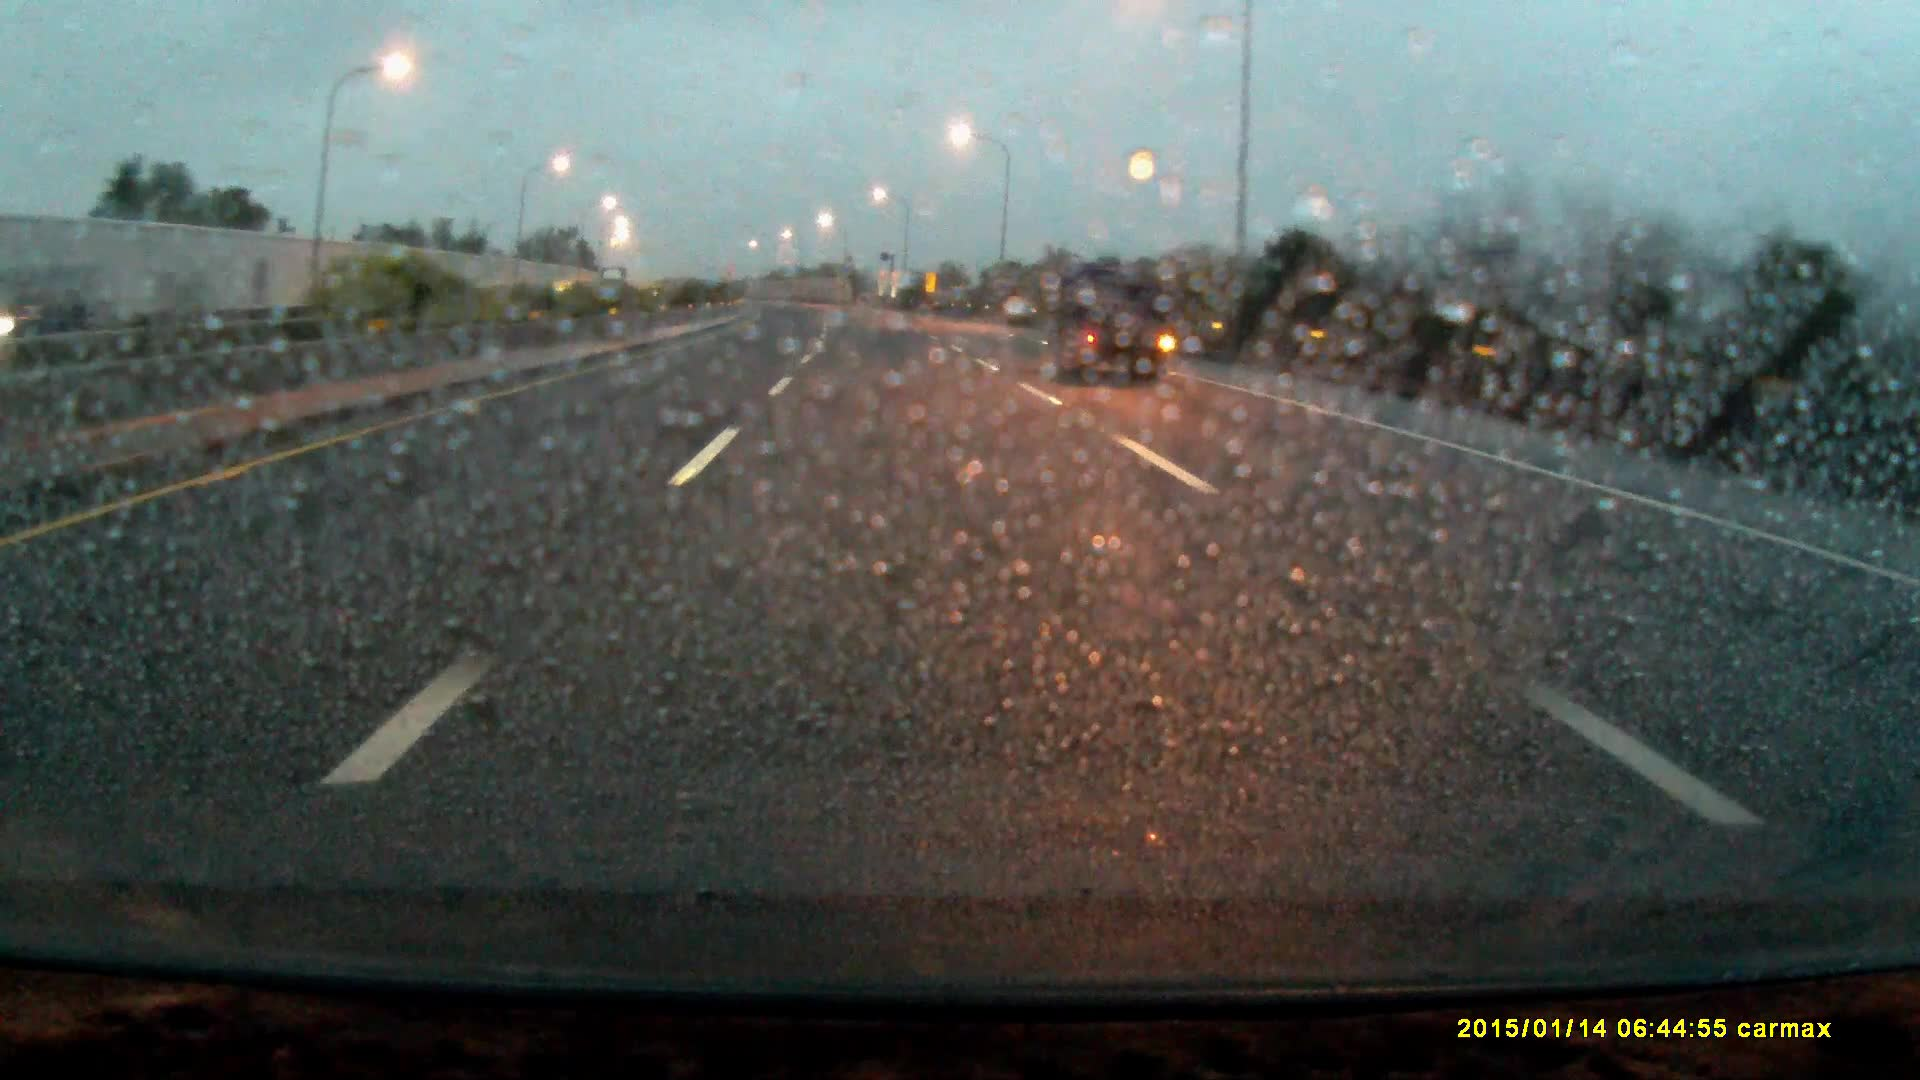vehicle: (1048, 262, 1176, 386), (600, 266, 626, 299)
